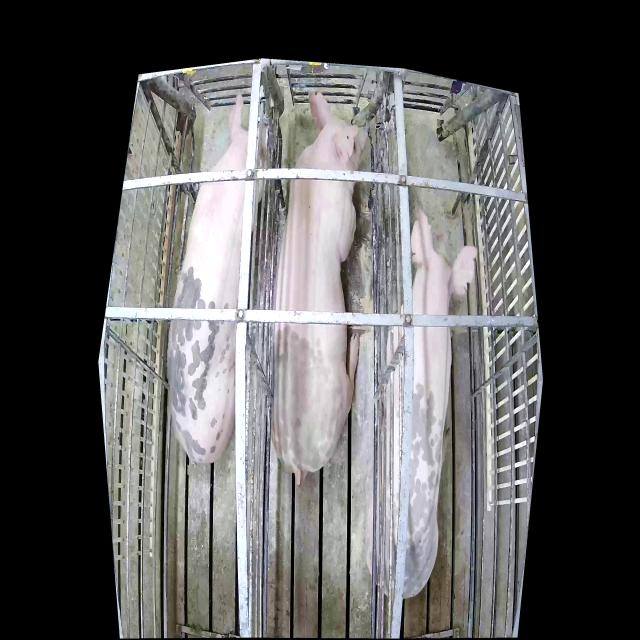pig: (366, 202, 478, 598), (166, 90, 271, 462), (272, 92, 370, 487)
